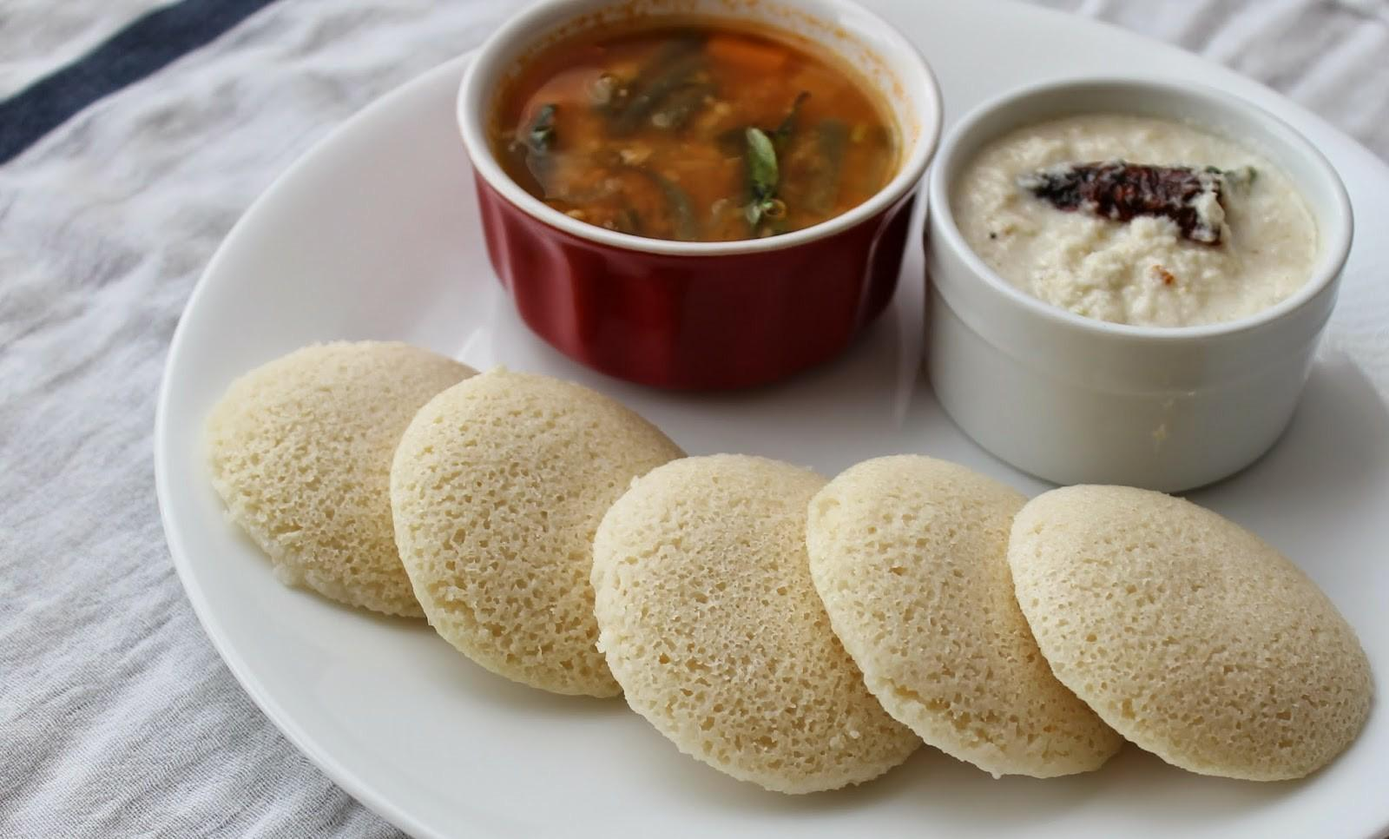CoconutChutney: (955, 110, 1319, 334)
Idli: (1008, 482, 1373, 781), (594, 459, 922, 789), (807, 456, 1126, 781), (386, 368, 683, 700), (200, 336, 480, 623)
